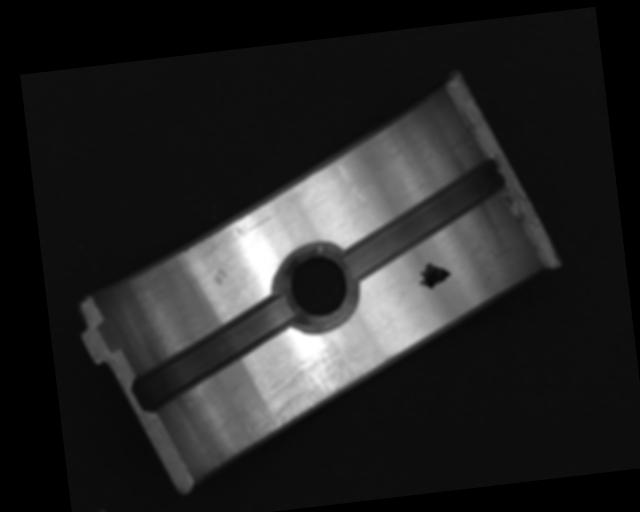blot: (415, 259, 453, 292)
bruise: (211, 266, 230, 287)
gap: (336, 159, 513, 280), (125, 298, 301, 412)
hole: (274, 241, 359, 337)
nick: (337, 160, 375, 215)
scratch: (240, 336, 388, 443)
